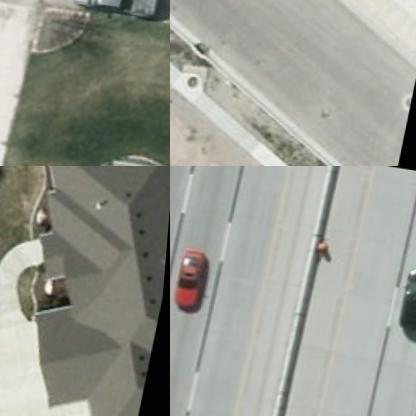car: (172, 245, 216, 315), (393, 258, 415, 332)
pickup: (64, 0, 161, 16)
